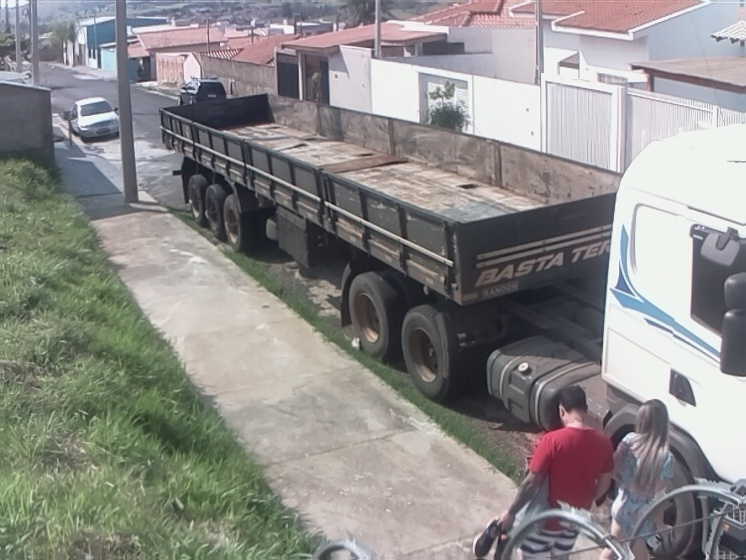person: (493, 385, 615, 560), (598, 398, 678, 560)
